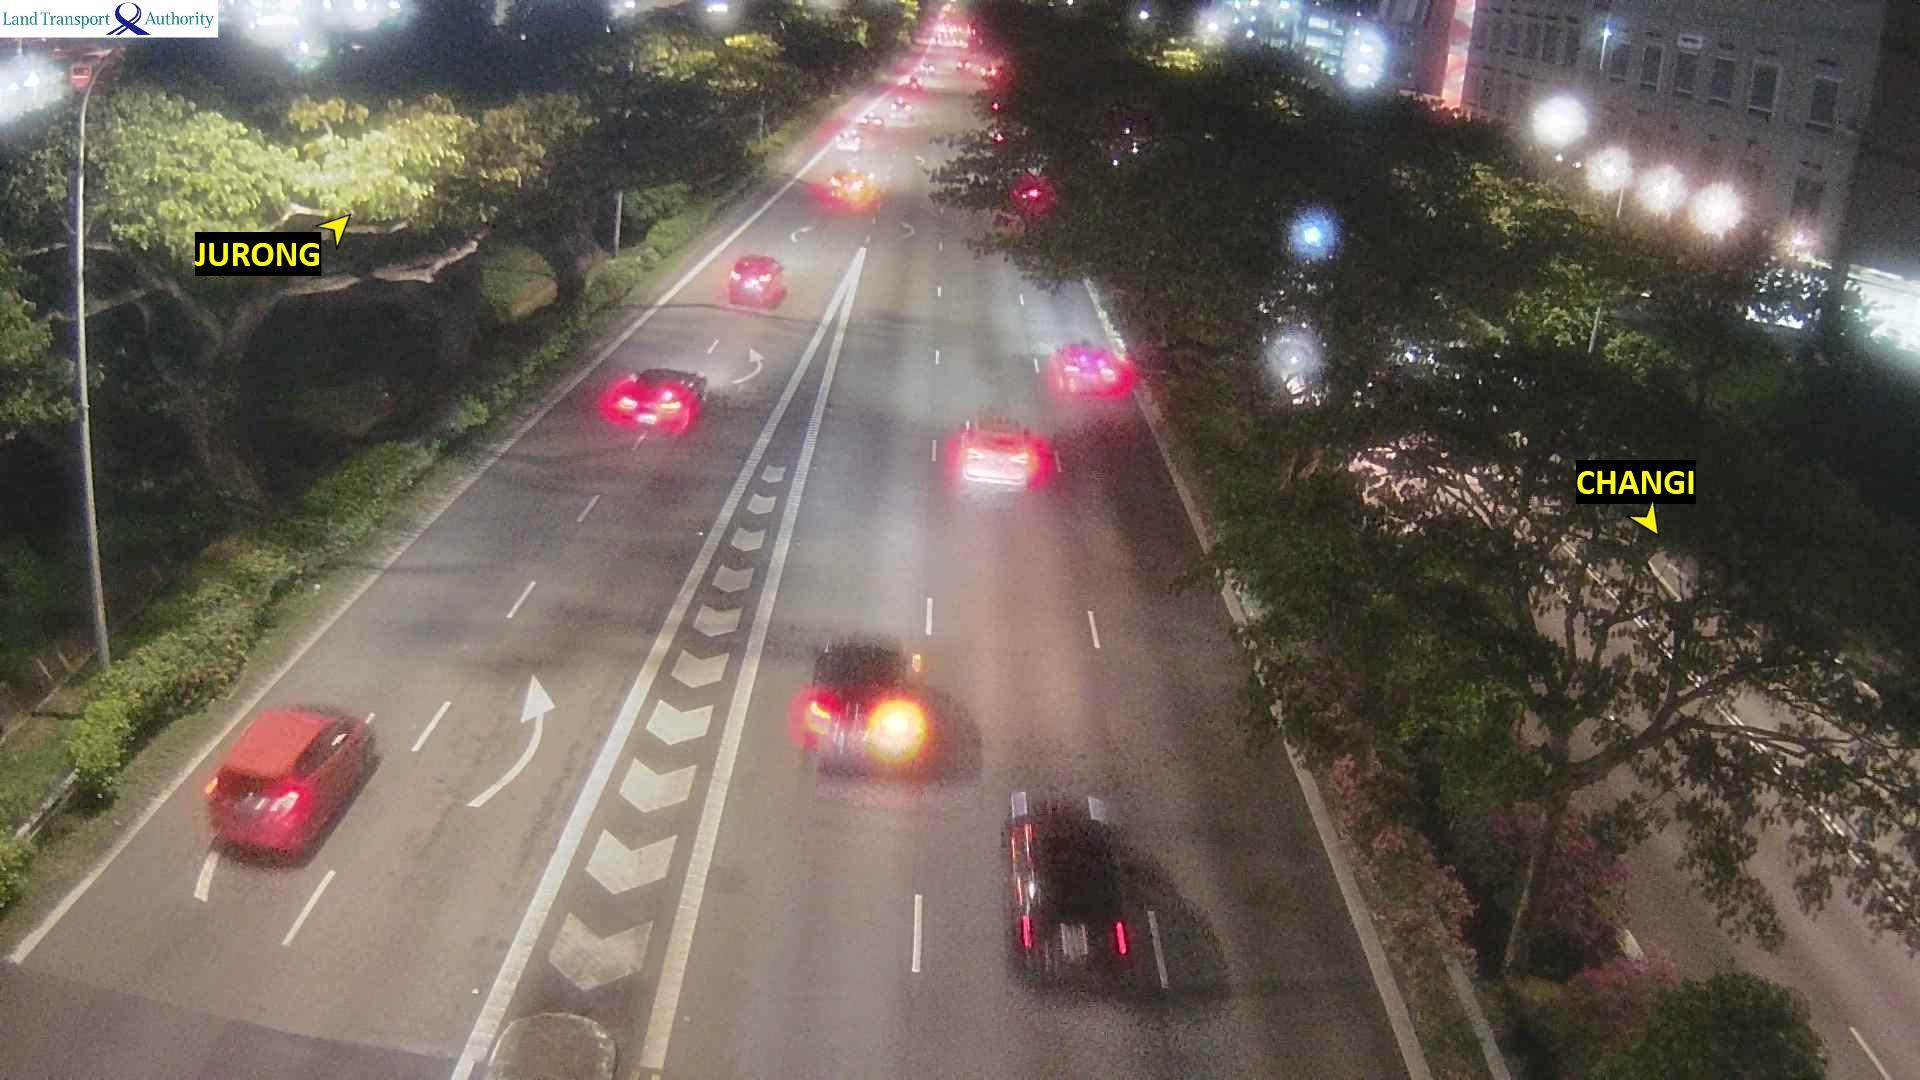cars: (786, 630, 973, 781), (202, 701, 374, 864), (1000, 788, 1134, 987), (944, 413, 1061, 494), (597, 366, 707, 438), (1047, 341, 1136, 401), (727, 254, 787, 310), (816, 165, 883, 215), (1009, 171, 1057, 220), (988, 116, 1035, 153), (986, 85, 1028, 113), (887, 95, 916, 123), (834, 126, 861, 151), (901, 73, 926, 91), (860, 112, 884, 128), (979, 64, 1002, 80), (918, 61, 939, 75), (929, 35, 945, 49), (956, 59, 972, 72), (950, 35, 965, 48)
